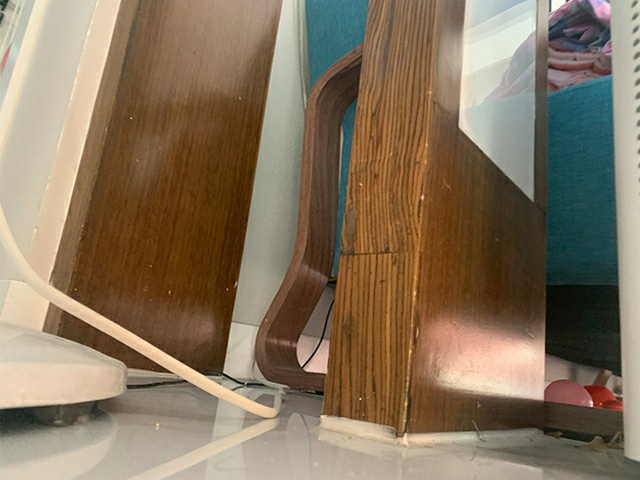wire: (1, 211, 333, 421)
